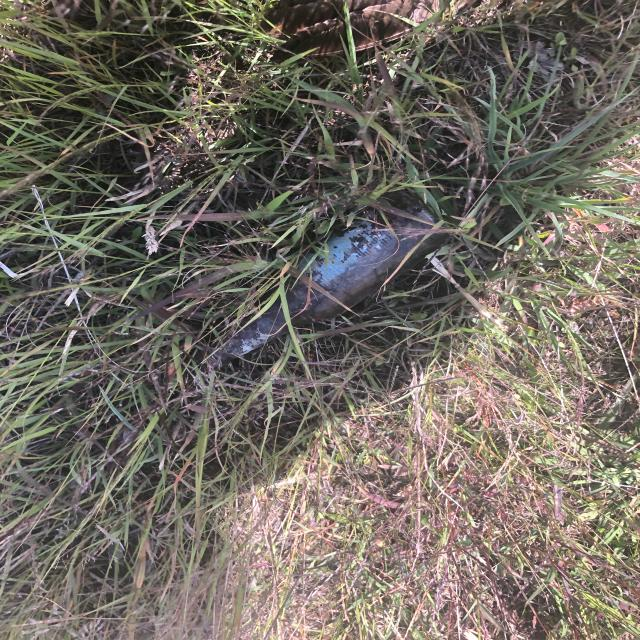Glass bottle: (204, 190, 460, 368)
